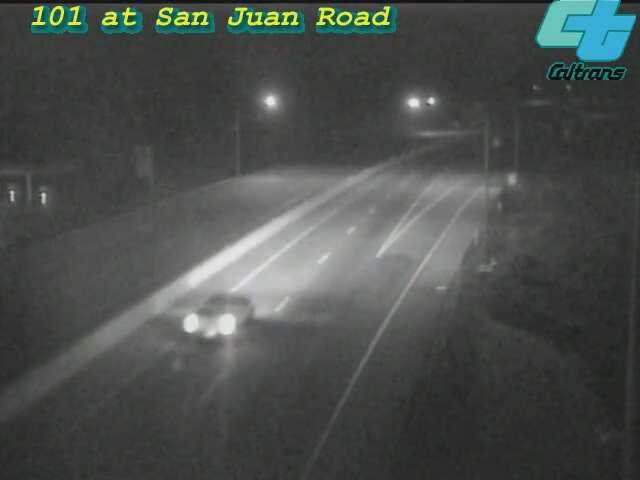vehicle: (175, 272, 255, 352)
